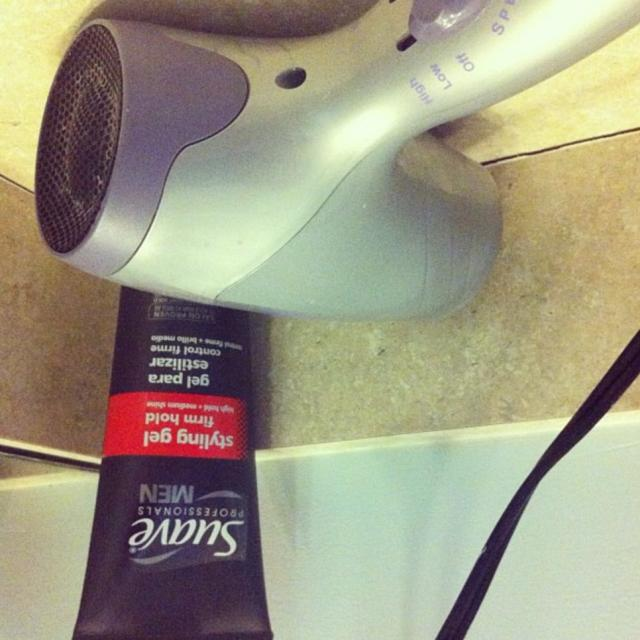dryer: (17, 2, 563, 349)
